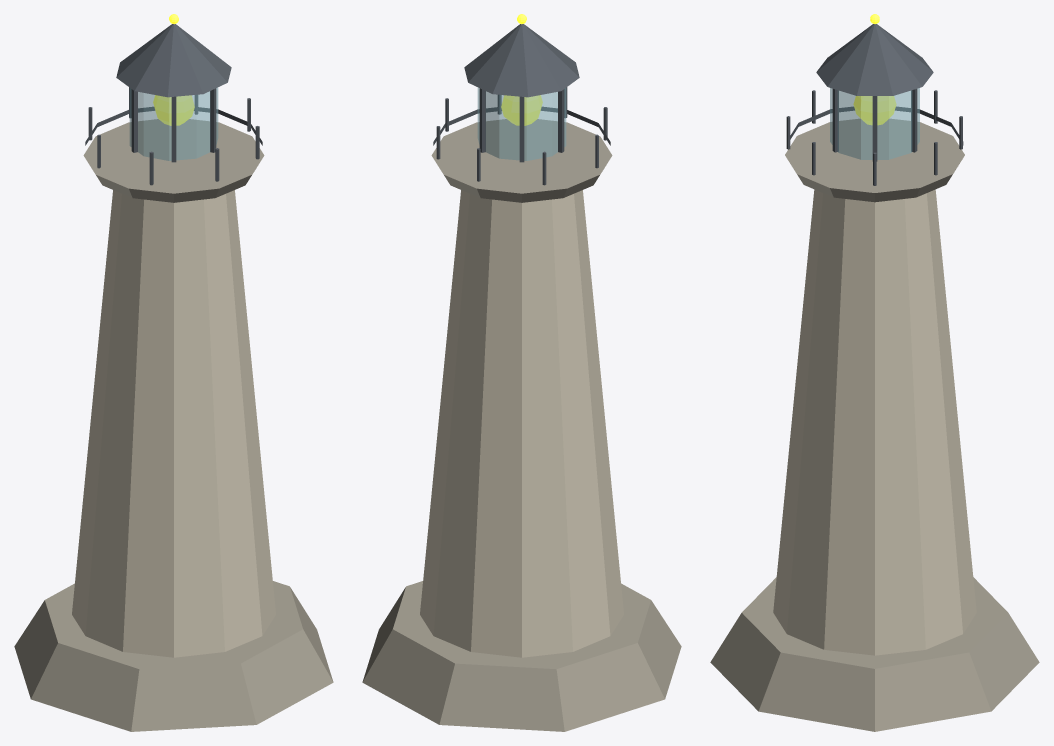
File: lighthouse.glb
3 views of the same model, side by side, from view 1: azimuth 30°, elevation 25°; view 2: azimuth 150°, elevation 25°; view 3: azimuth 270°, elevation 25° (orthographic).
Visible parts, largest first — view 1: lighthouse; view 2: lighthouse; view 3: lighthouse.
Boxes of the visible parts, <box> form: lighthouse: <box>14,14,333,731</box>; lighthouse: <box>362,14,681,731</box>; lighthouse: <box>710,14,1039,731</box>.
Bounding box in the file's own units: 8.4 × 18.23 × 8.4.
